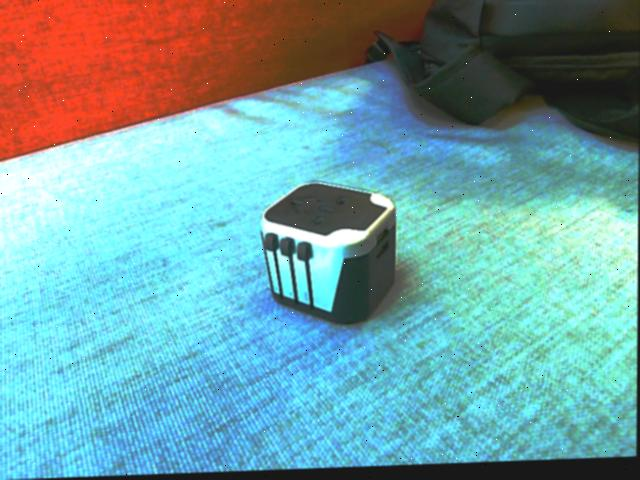adapter: (259, 181, 398, 330)
